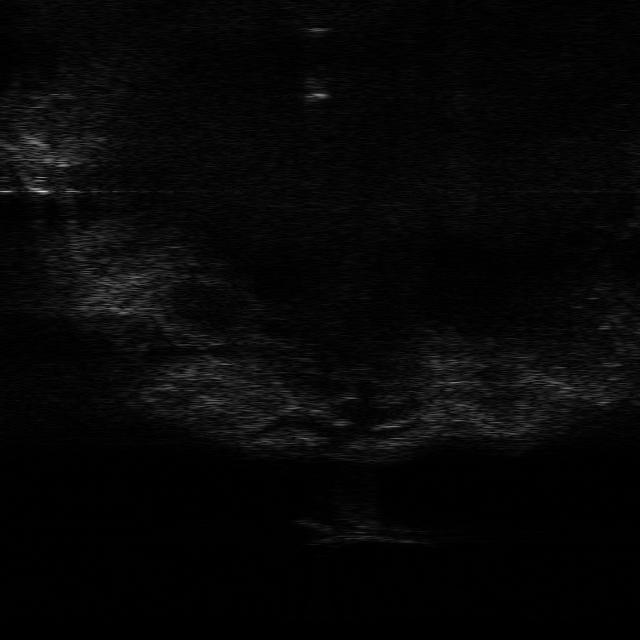plane: (296, 515, 424, 546)
